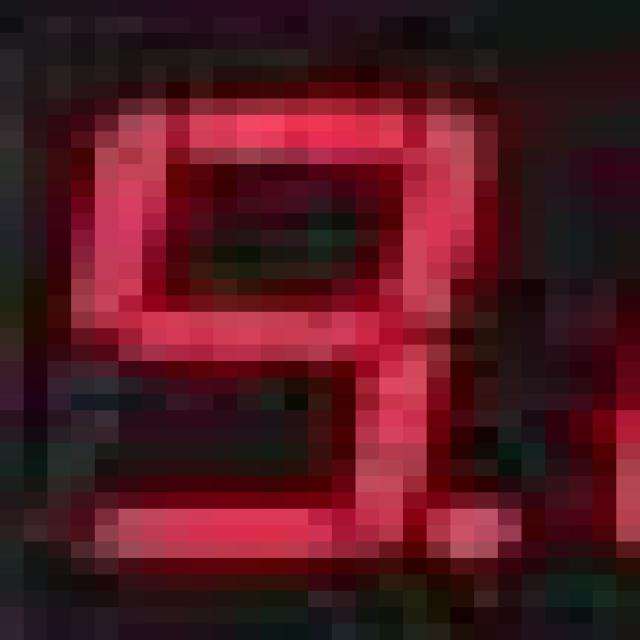.: (417, 489, 534, 575)
9: (39, 64, 494, 599)
